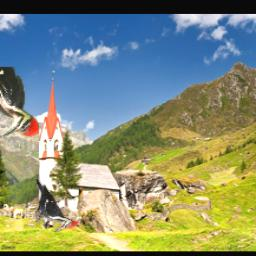Woodpecker: (0, 67, 39, 137), (37, 176, 80, 233)
